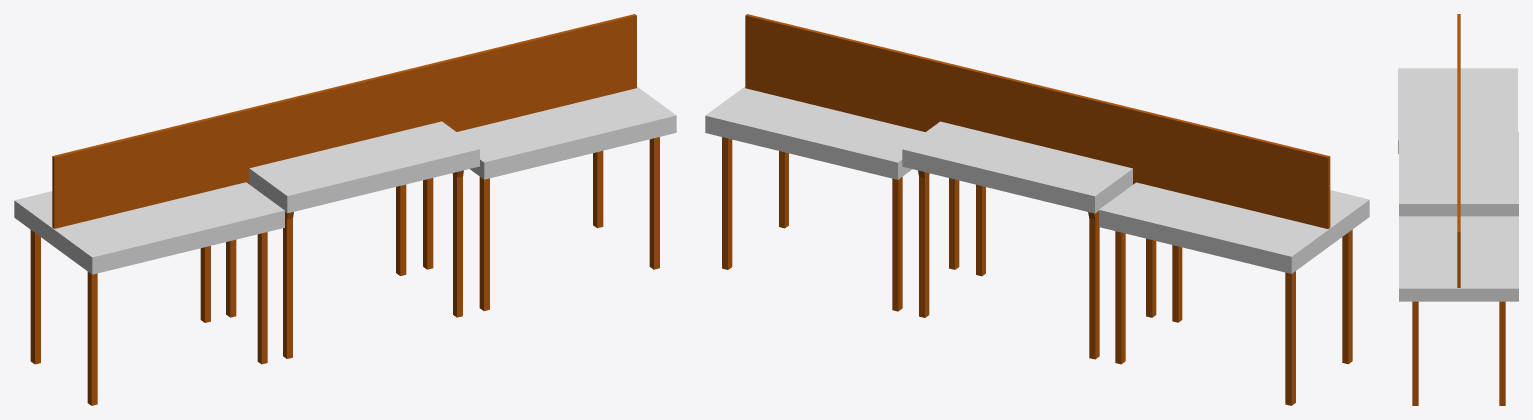
The model's file is TableThree.fbx.
3 views of the same model, side by side, from view 1: azimuth 30°, elevation 25°; view 2: azimuth 150°, elevation 25°; view 3: azimuth 270°, elevation 25° (orthographic). The views are drawn at different scales.
Visible parts, largest first — view 1: TableDivided; view 2: TableDivided; view 3: TableDivided.
Part boxes in pixels (box(x1,y1,x2,y2)): TableDivided: box(14, 14, 676, 405); TableDivided: box(705, 14, 1369, 405); TableDivided: box(1398, 14, 1518, 405).
Size of the model in its own units: 400 by 150 by 93.26.
